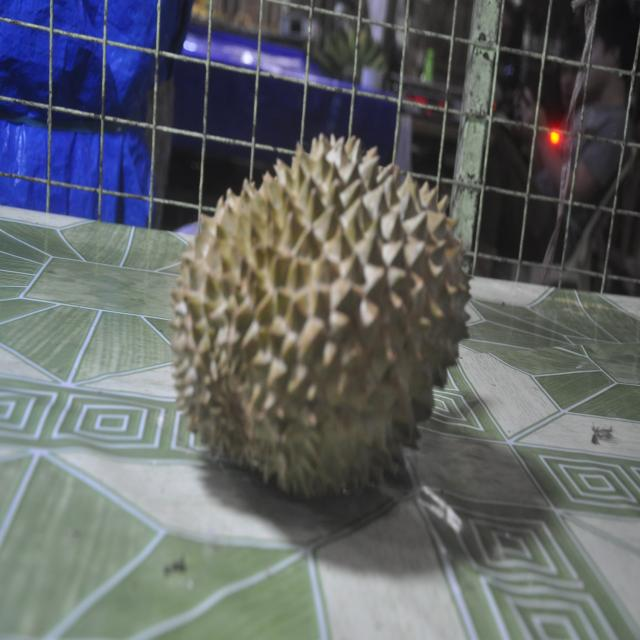mature: (171, 135, 469, 497)
